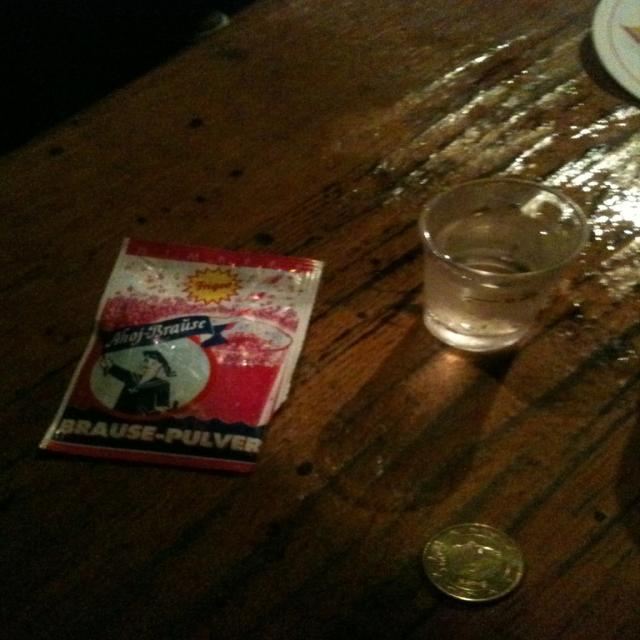Coin: (417, 520, 526, 602)
